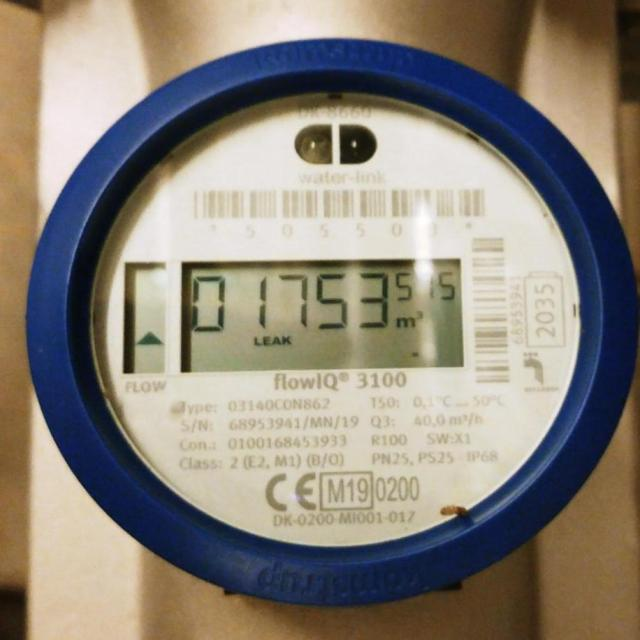gaz_meter: (85, 93, 585, 548)
indication: (182, 258, 466, 370)
